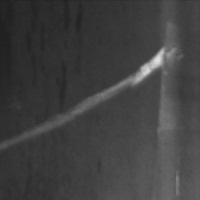scratches: (3, 43, 180, 148)
